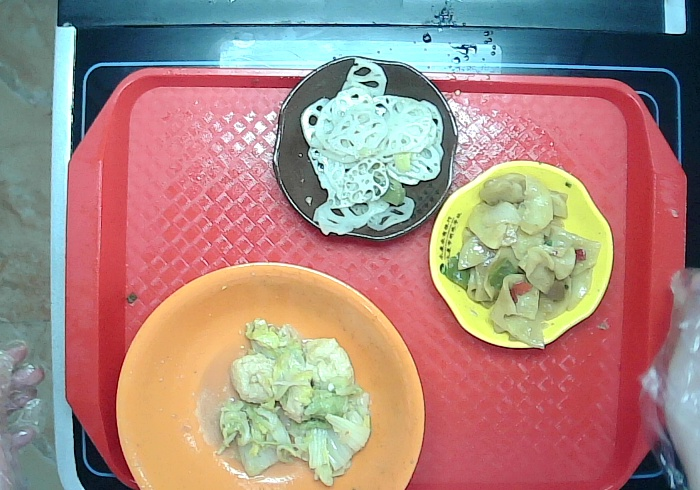YKMZ-Huang_Se_Ao_Bian_Wan: (421, 156, 620, 356)
YKMZ-Ju_Se_Tang_Wan: (107, 247, 435, 490)
YKMZ-Ka_Fei_Ao_Bian_Wan: (270, 47, 465, 250)
